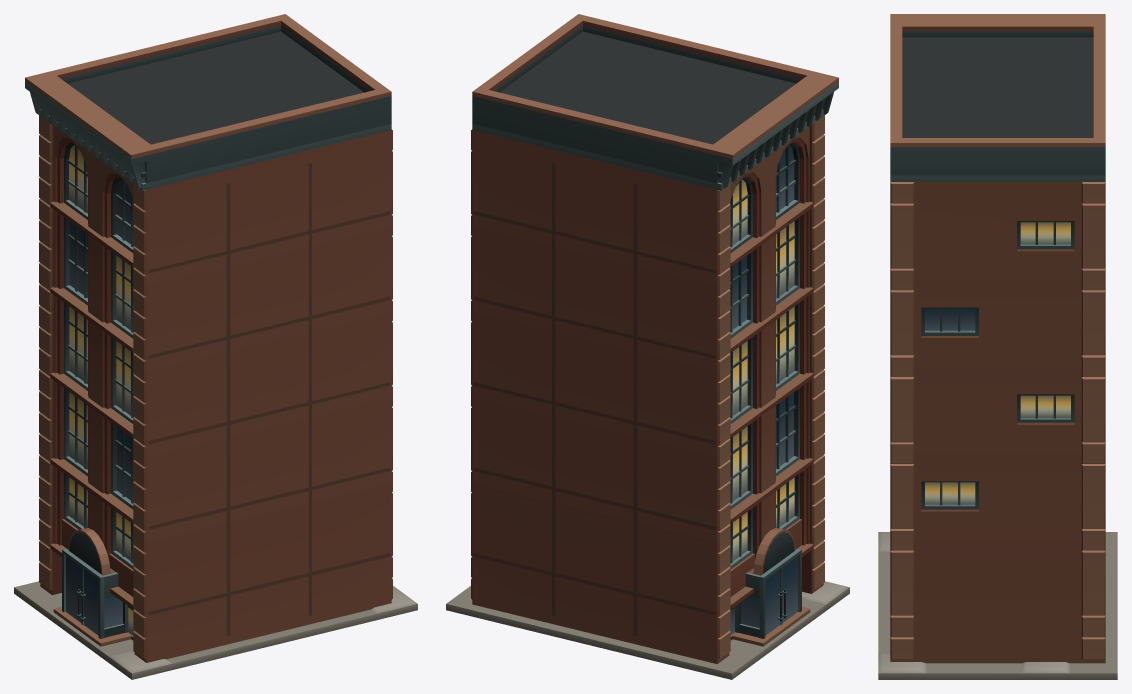
The model's file is Building_16A.fbx.
3 views of the same model, side by side, from view 1: azimuth 30°, elevation 25°; view 2: azimuth 150°, elevation 25°; view 3: azimuth 270°, elevation 25° (orthographic).
Visible parts, largest first — view 1: Building_16A, Window_Lights_16A; view 2: Building_16A, Window_Lights_16A; view 3: Building_16A, Window_Lights_16A.
Part boxes in pixels (x1,y1,x2,y2): Building_16A: (14, 14, 417, 679); Window_Lights_16A: (69, 145, 133, 635); Building_16A: (446, 14, 849, 679); Window_Lights_16A: (730, 179, 794, 560); Building_16A: (878, 14, 1117, 679); Window_Lights_16A: (925, 222, 1070, 504).
Bounding box in the file's own units: 1400 × 2430 × 1000.
